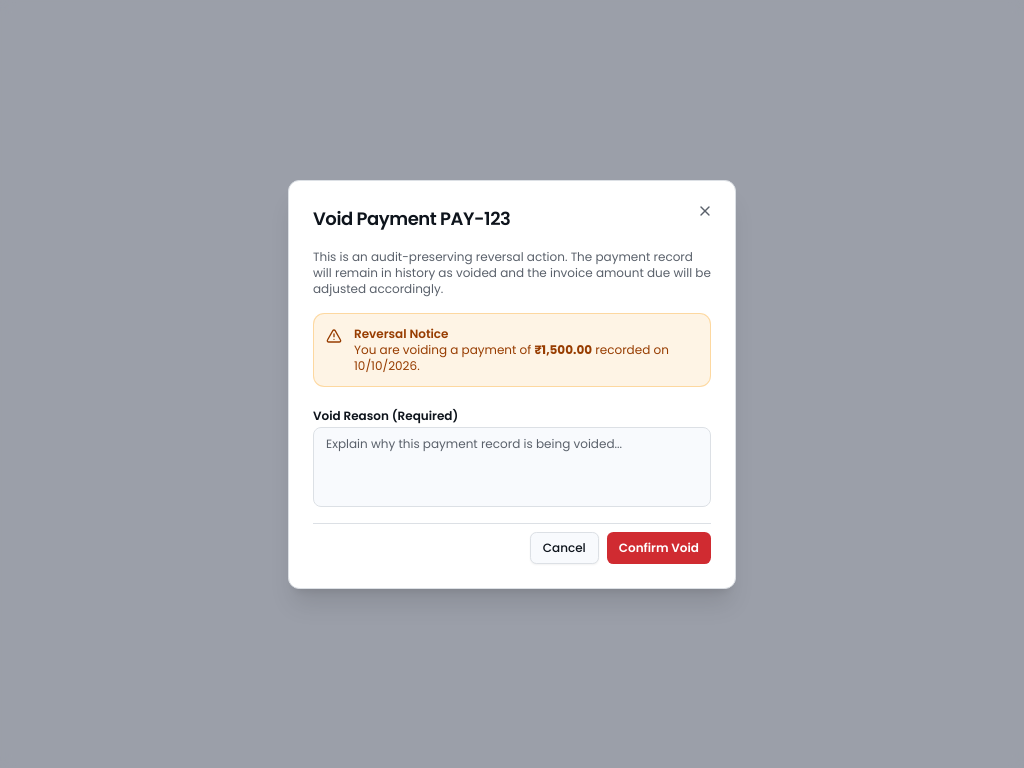
Scenario: Billing UI Components & Financial Rules › VoidPaymentDialog Form Validation & Submission › enforces required void reason and prevents submission when empty
Click the button "Confirm Void" at {"x": 659, "y": 548}, box [607,532,711,564]
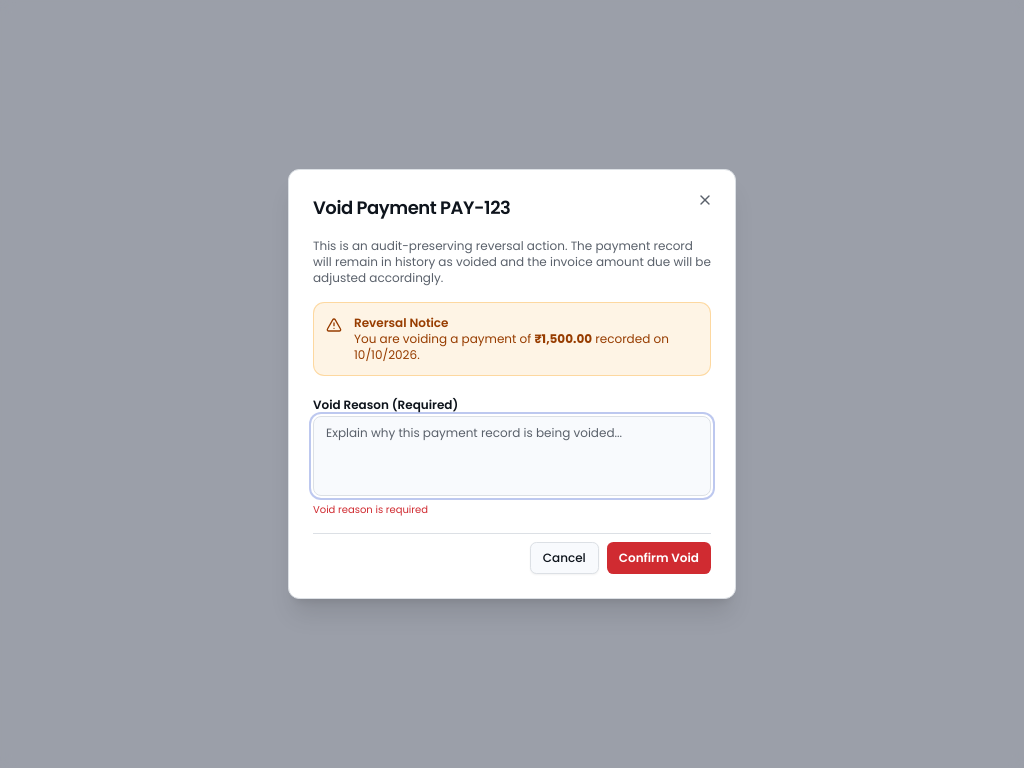
Check: the text "Void reason is required" is shown, box [313,502,428,517]
